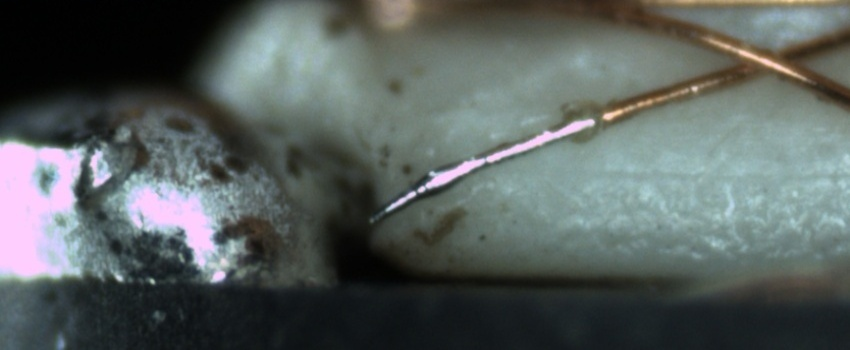CL: (707, 33, 824, 84)
DL: (556, 137, 849, 203)
TS: (371, 115, 599, 224)
TTCW: (367, 90, 659, 228)
